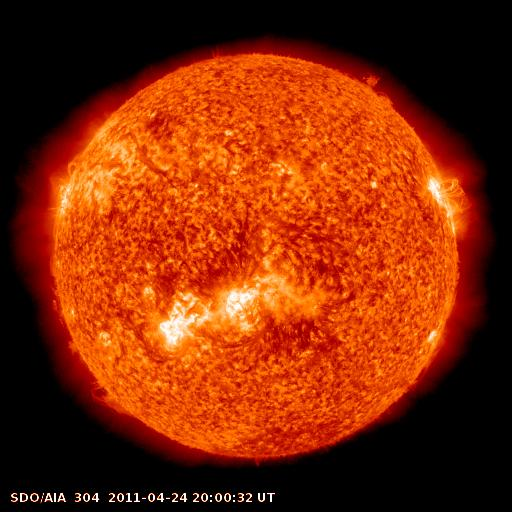prominence: (83, 376, 143, 423), (351, 65, 403, 111), (416, 333, 451, 374)
